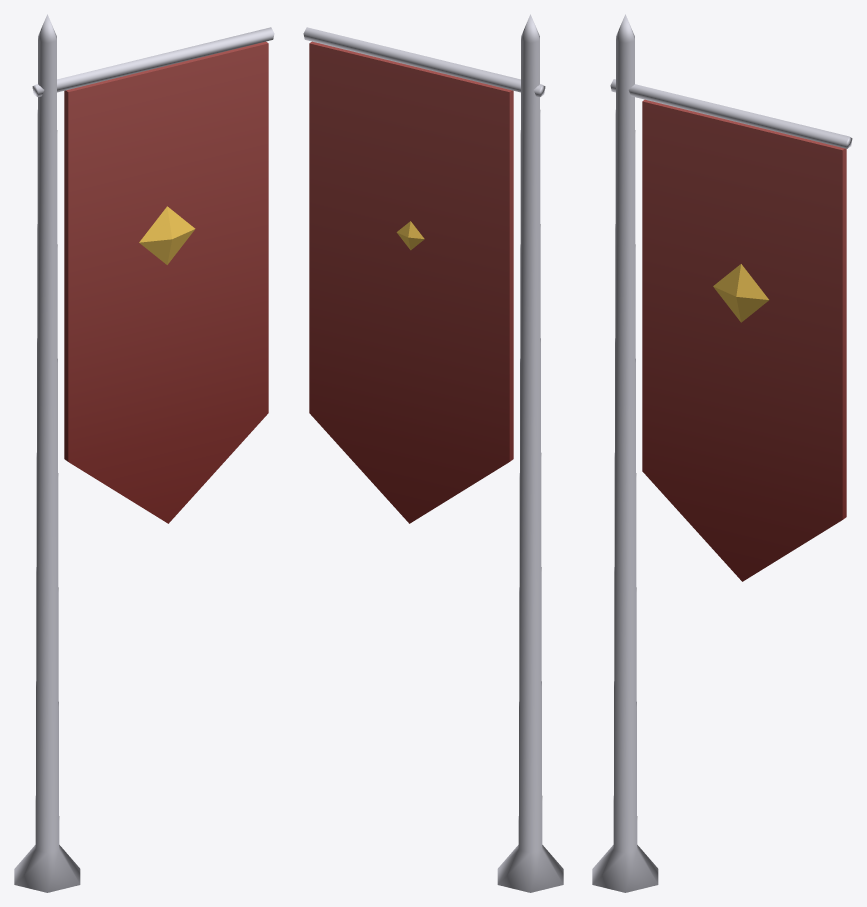
The model's file is banner_red.glb.
3 renders of one model, left to right at view 1: azimuth 30°, elevation 25°; view 2: azimuth 150°, elevation 25°; view 3: azimuth 330°, elevation 25°, orthographic.
Parts seen in each view (by area): view 1: banner_red; view 2: banner_red; view 3: banner_red.
Part boxes in pixels (left/top/right/bottom): banner_red: left=14, top=14, right=274, bottom=892; banner_red: left=303, top=14, right=563, bottom=892; banner_red: left=592, top=14, right=852, bottom=892.
Bounding box in the file's own units: 1.09 × 3.5 × 0.2425.
